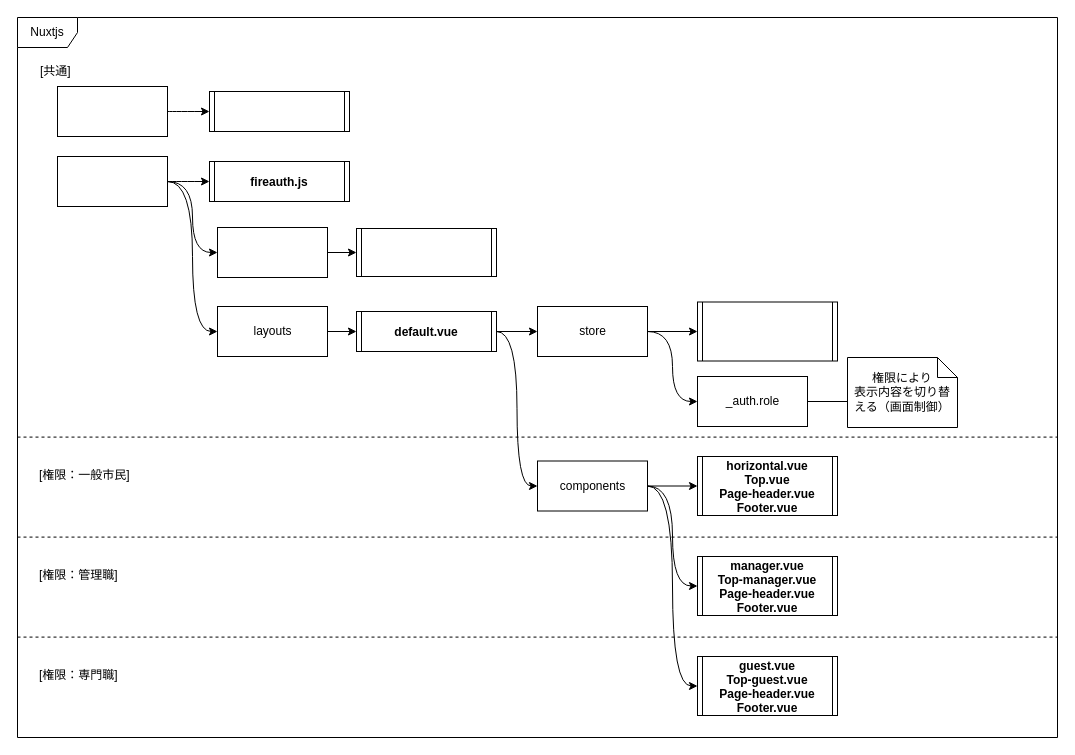
The diagram is 1075 pixels wide and 755 high, and some of its shapes have lost their labels. Each missing label, with the box of its shape:
authentication.js: (208, 90, 350, 132)
authUtils.js authUtils-v8.js: (356, 228, 496, 276)
helpers.js layout.js: (696, 301, 838, 361)
helpers/firebase: (216, 226, 328, 278)
middleware: (56, 86, 168, 136)
plugins: (56, 156, 168, 206)
